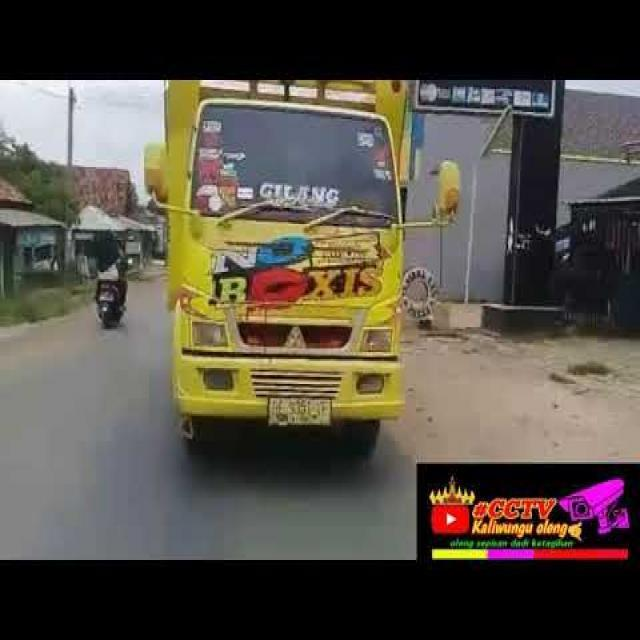truck: (145, 64, 467, 473)
